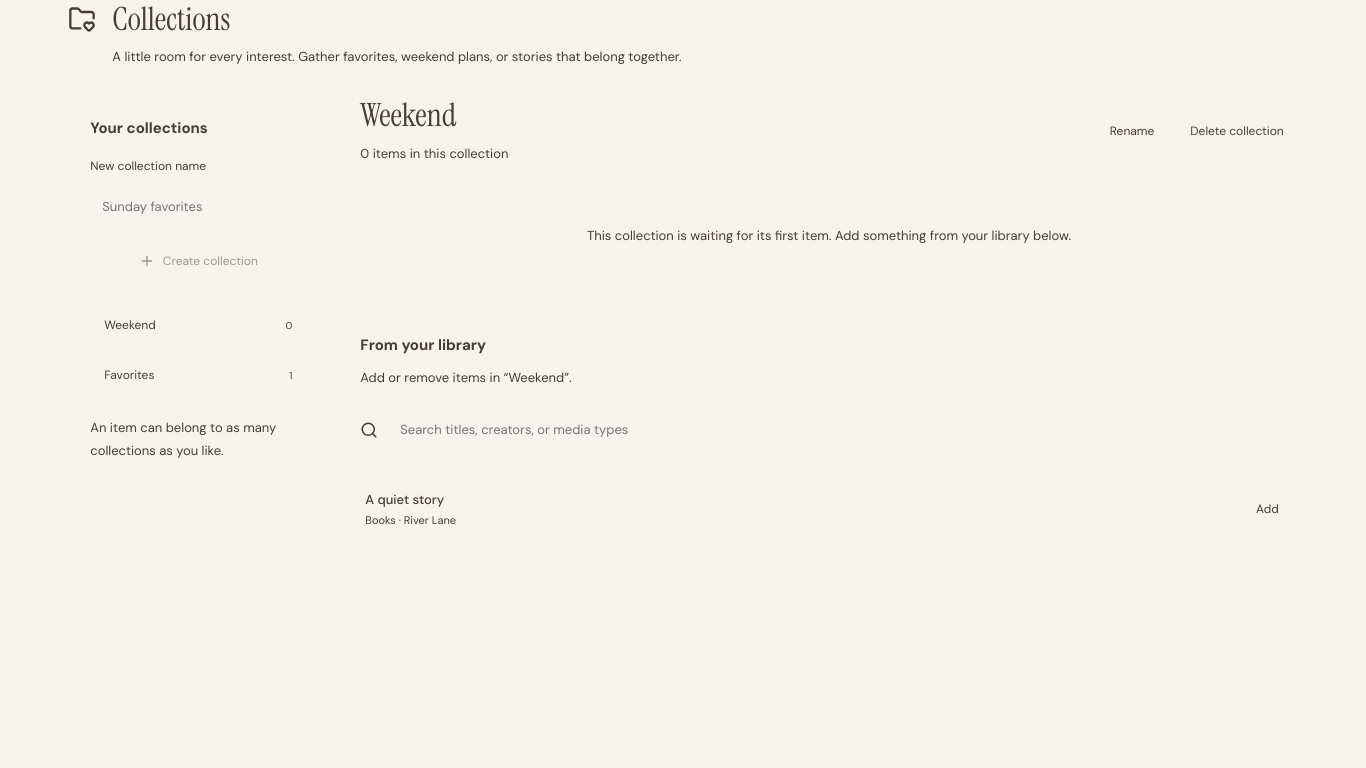
Test: searches creators, adds and removes membership without changing other collections
Type "River" into the search field named "Search your library" at (843, 430), box [388,409,1298,450]
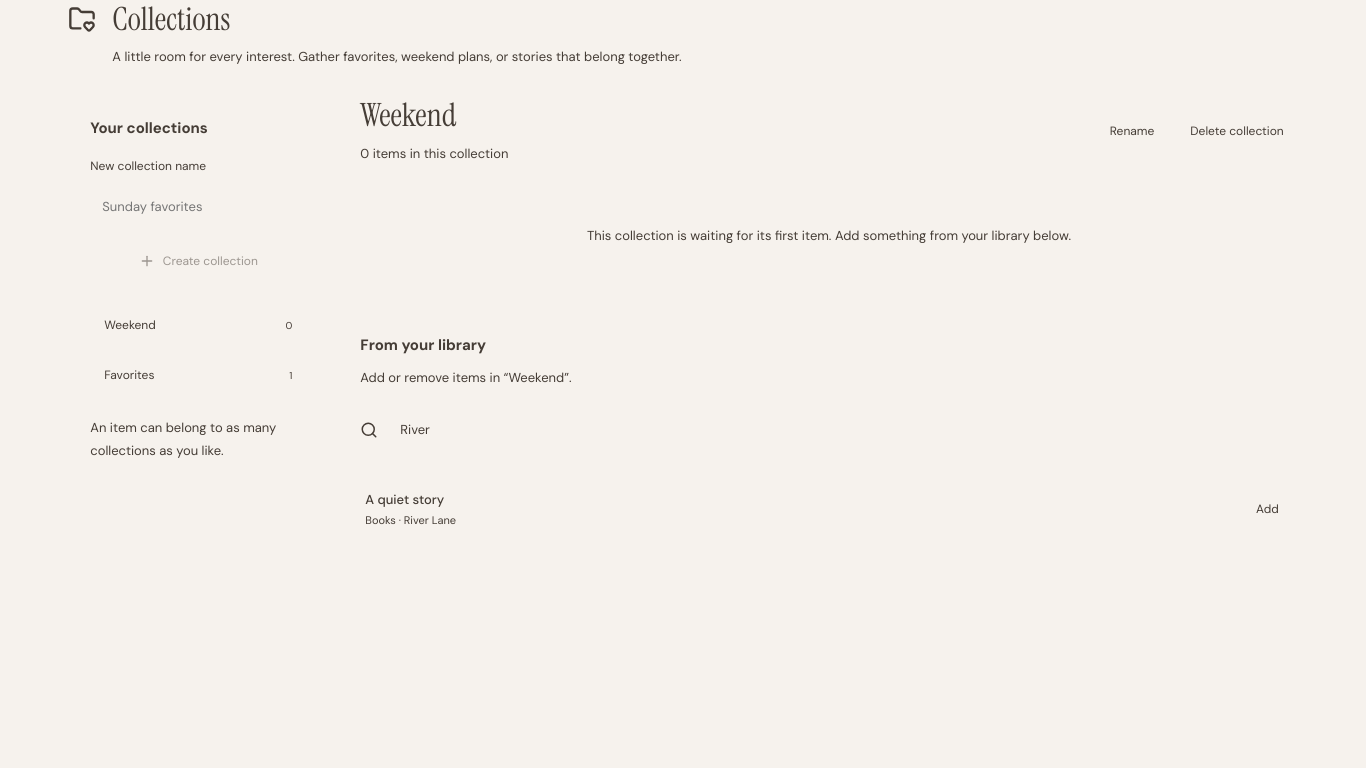
Click the button with aria-label "Add A quiet story to Weekend" at (1267, 509), box [1242,487,1293,531]
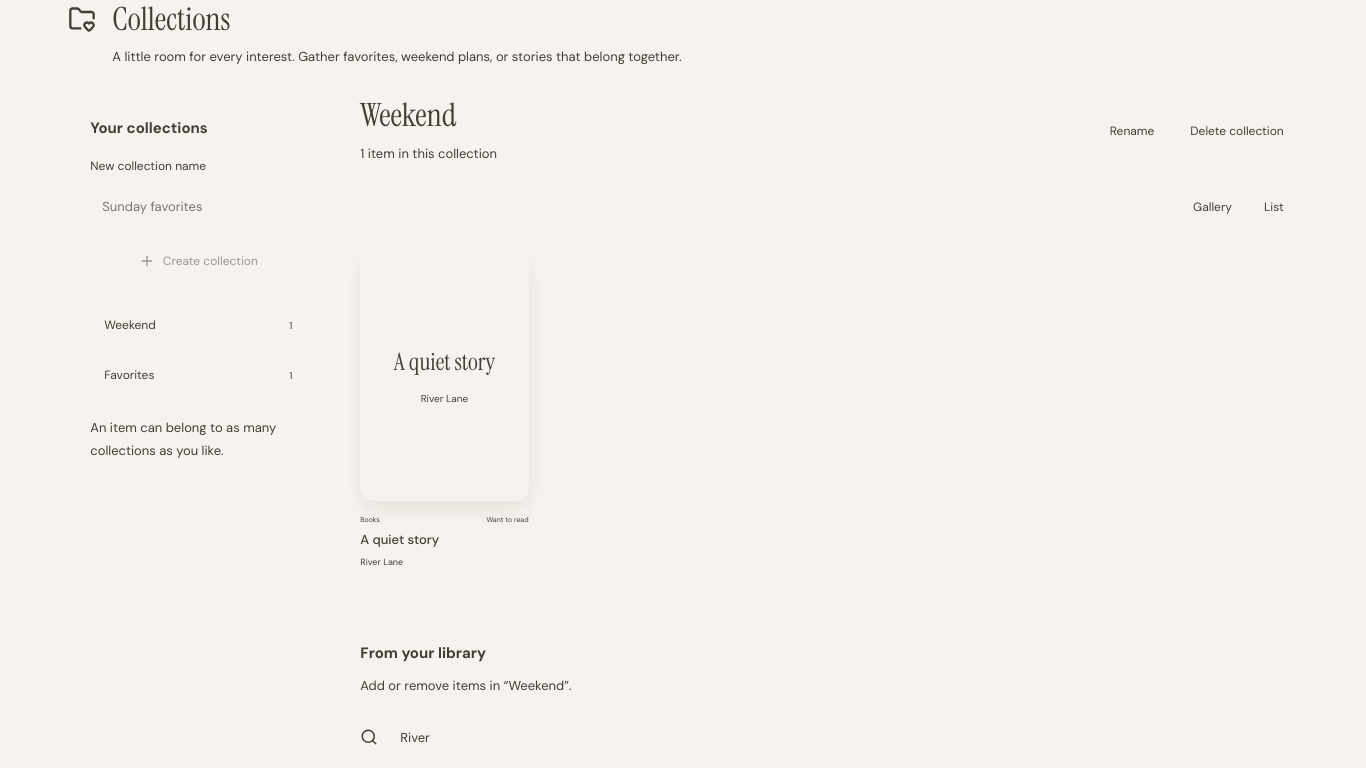
Click the button that starts with "A quiet story" at (444, 410), box [360,249,529,571]
(page scrolled)
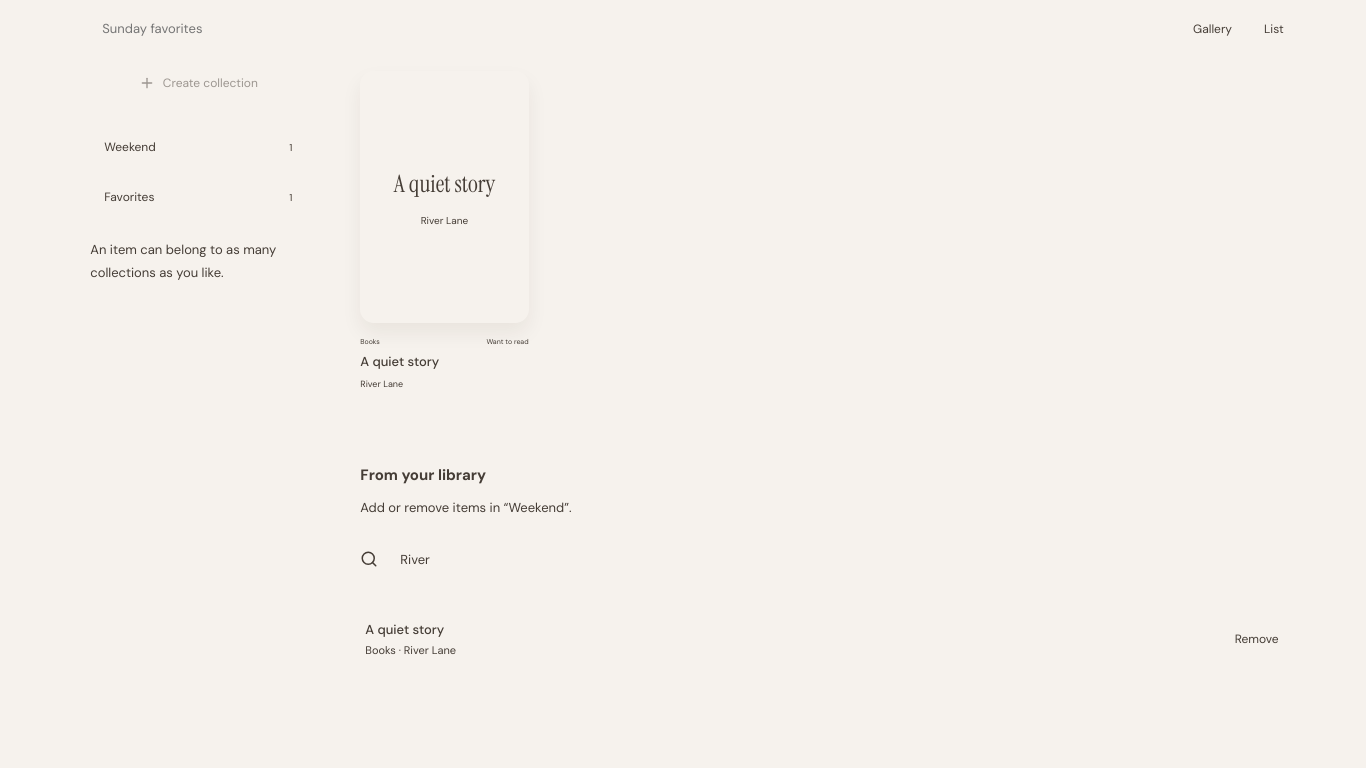
Click the button with aria-label "Remove A quiet story from Weekend" at (1257, 639), box [1221,617,1293,661]
(page scrolled)
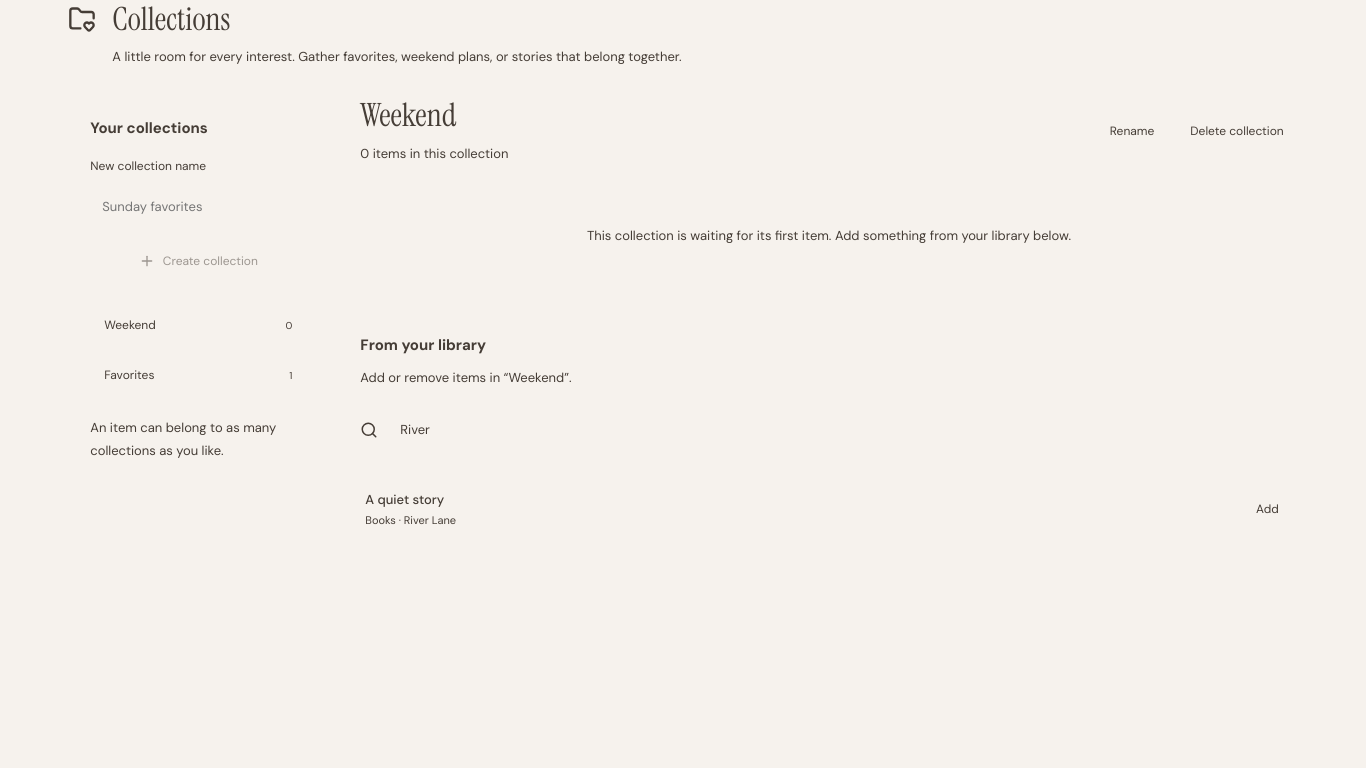
Expected: the button with aria-label "Add A quiet story to Weekend" is enabled, [1242,487,1293,531]
Replace the text in the search field named "Search your library" with "missing" at (843, 430), box [388,409,1298,450]
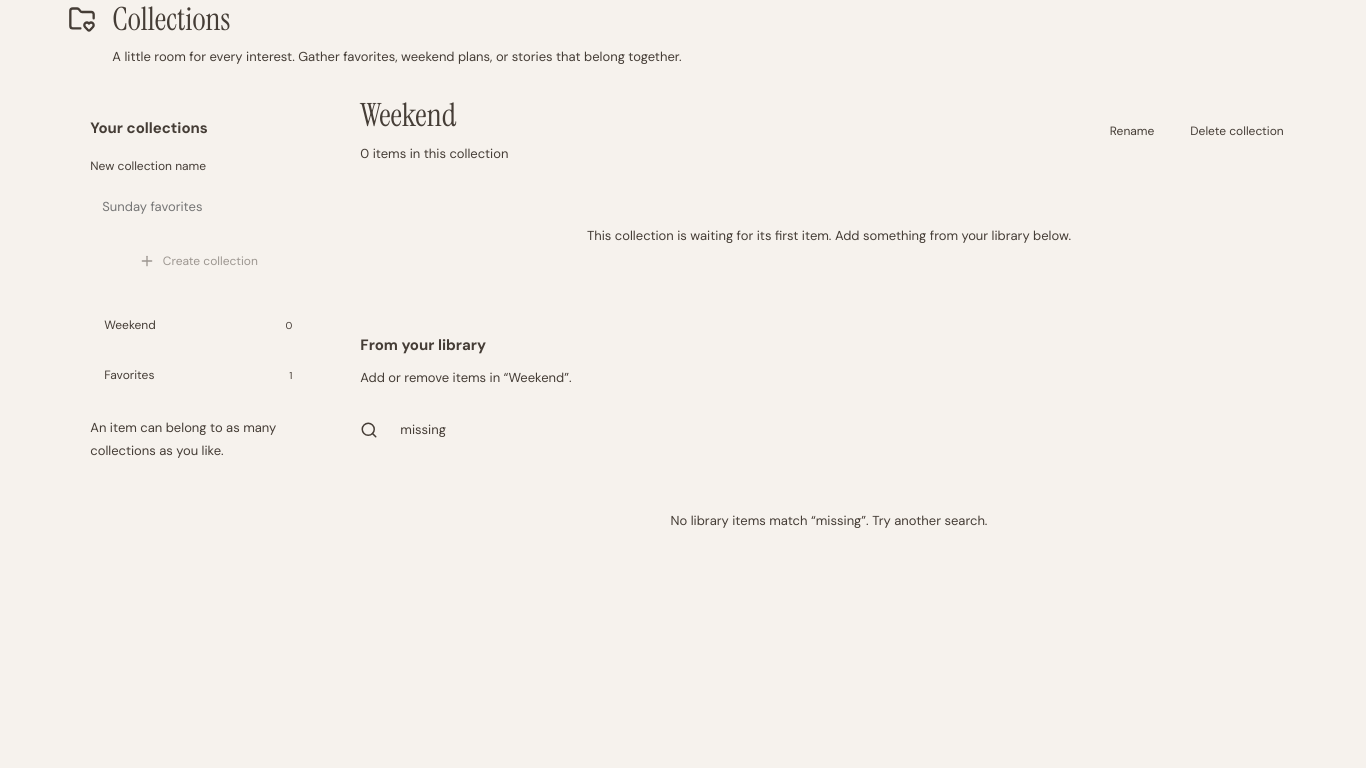
Result: the message shows "No library items match" at [670,512,816,529]
